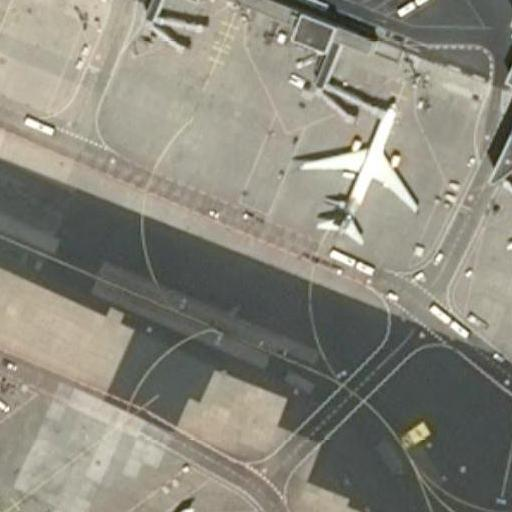Aircraft: (296, 96, 419, 242), (55, 504, 250, 512), (506, 184, 512, 307)
